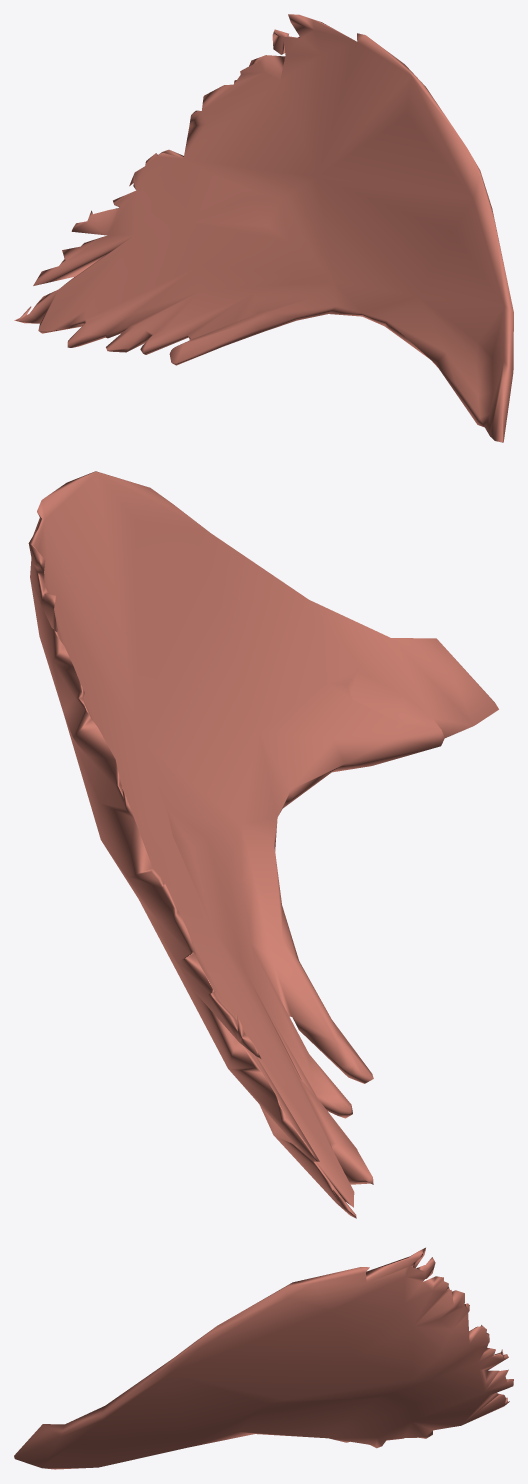
The picture shows the model from 3 angles, top to bottom: view 1: azimuth 30°, elevation 25°; view 2: azimuth 150°, elevation 25°; view 3: azimuth 270°, elevation 25°; orthographic projection. The views are drawn at different scales.
Visible parts, largest first — view 1: 左侧降口角肌; view 2: 左侧降口角肌; view 3: 左侧降口角肌.
Boxes of the visible parts, x1=… form: 左侧降口角肌: x1=14, y1=14, x2=513, y2=442; 左侧降口角肌: x1=28, y1=471, x2=498, y2=1218; 左侧降口角肌: x1=14, y1=1247, x2=513, y2=1469.
Size of the model in its own units: 0.0359 by 0.0353 by 0.0614.
